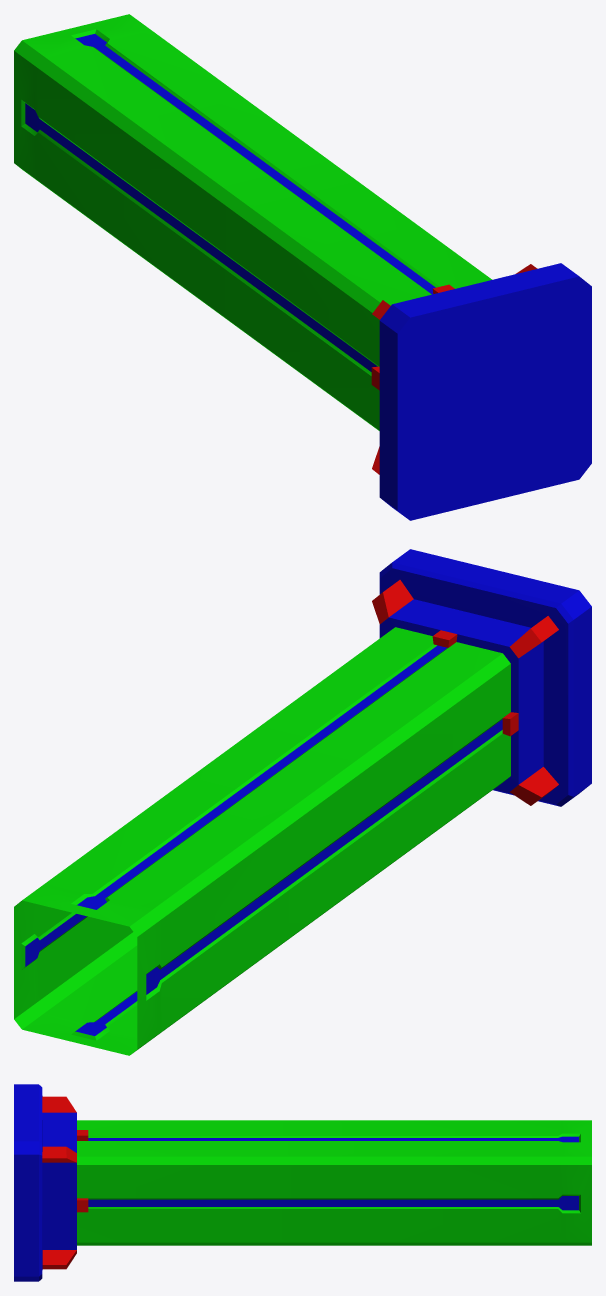
File: MePlainteMur.FBX
The picture shows the model from 3 angles, top to bottom: view 1: azimuth 30°, elevation 25°; view 2: azimuth 150°, elevation 25°; view 3: azimuth 270°, elevation 25°; orthographic projection. The views are drawn at different scales.
Visible parts, largest first — view 1: PilierCorps, PilierFoot; view 2: PilierCorps, PilierFoot; view 3: PilierCorps, PilierFoot.
Boxes of the visible parts, bbox=[...] form: PilierCorps: bbox=[14, 14, 492, 430]; PilierFoot: bbox=[371, 263, 591, 520]; PilierCorps: bbox=[14, 627, 510, 1055]; PilierFoot: bbox=[372, 549, 591, 806]; PilierCorps: bbox=[77, 1120, 591, 1245]; PilierFoot: bbox=[14, 1084, 88, 1281].
Bounding box in the file's own units: 80.66 × 80.66 × 302.
